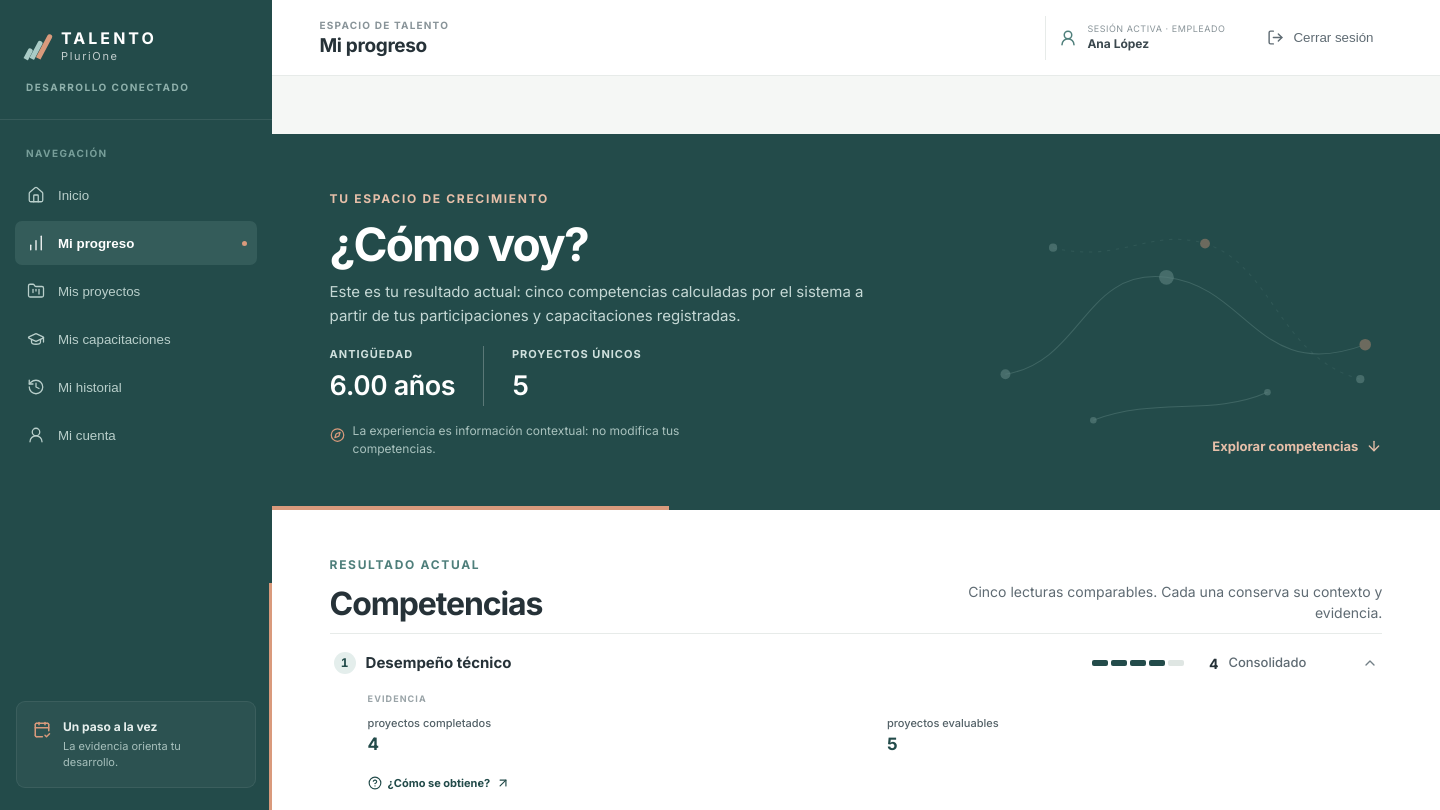
Test: Shell de Empleado — navegación entre secciones › Inicio abre su vista propia (§21.1), no el estado temporal
Expected: the heading "Competencias" is shown, [330,586,542,623]
Click the button "Inicio" at (136, 195), box [15,173,257,217]
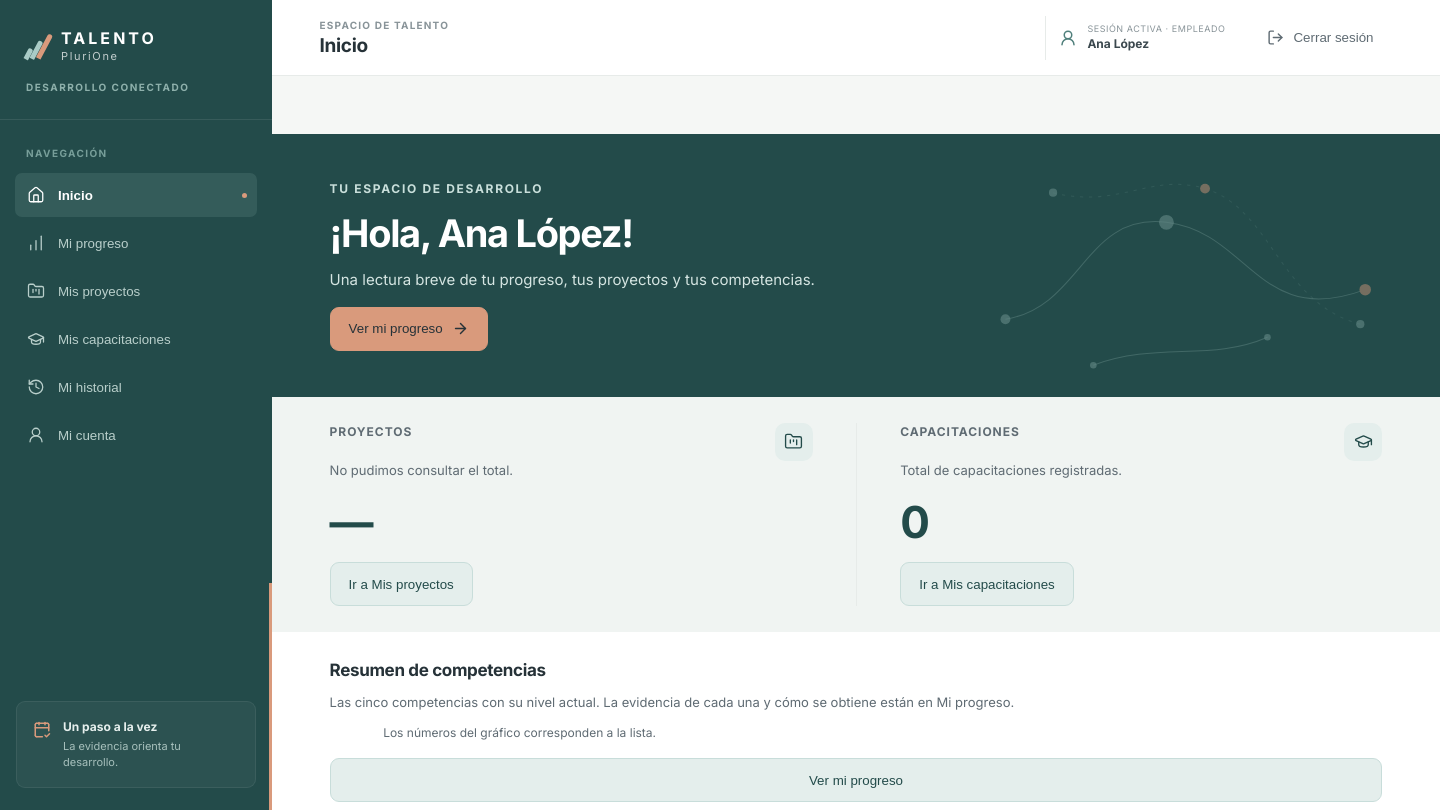
Result: the heading "Inicio" is shown at [320,34,368,57]
Result: the heading "Resumen de competencias" is shown at [330,660,546,680]
